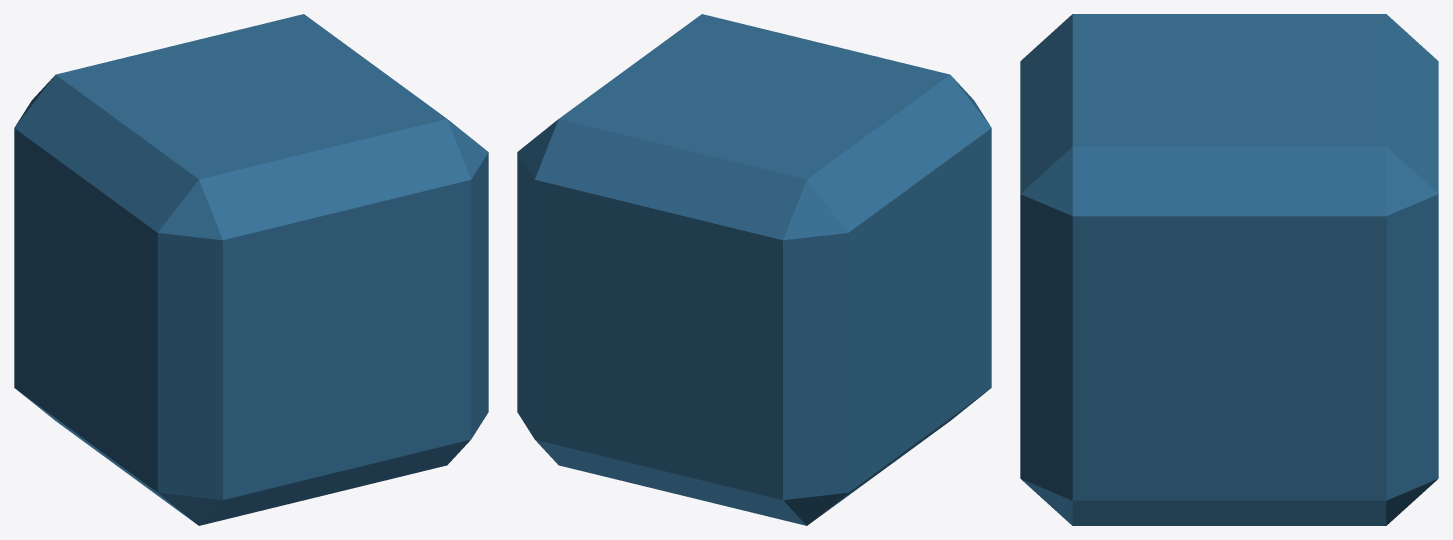
The model's file is Dark Blue.fbx.
3 views of the same model, side by side, from view 1: azimuth 30°, elevation 25°; view 2: azimuth 150°, elevation 25°; view 3: azimuth 270°, elevation 25° (orthographic). The views are drawn at different scales.
Visible parts, largest first — view 1: Dark Blue; view 2: Dark Blue; view 3: Dark Blue.
Boxes of the visible parts, <box> form: Dark Blue: <box>14,14,488,525</box>; Dark Blue: <box>517,14,991,525</box>; Dark Blue: <box>1020,14,1438,525</box>.
Bounding box in the file's own units: 200 × 200 × 200.
